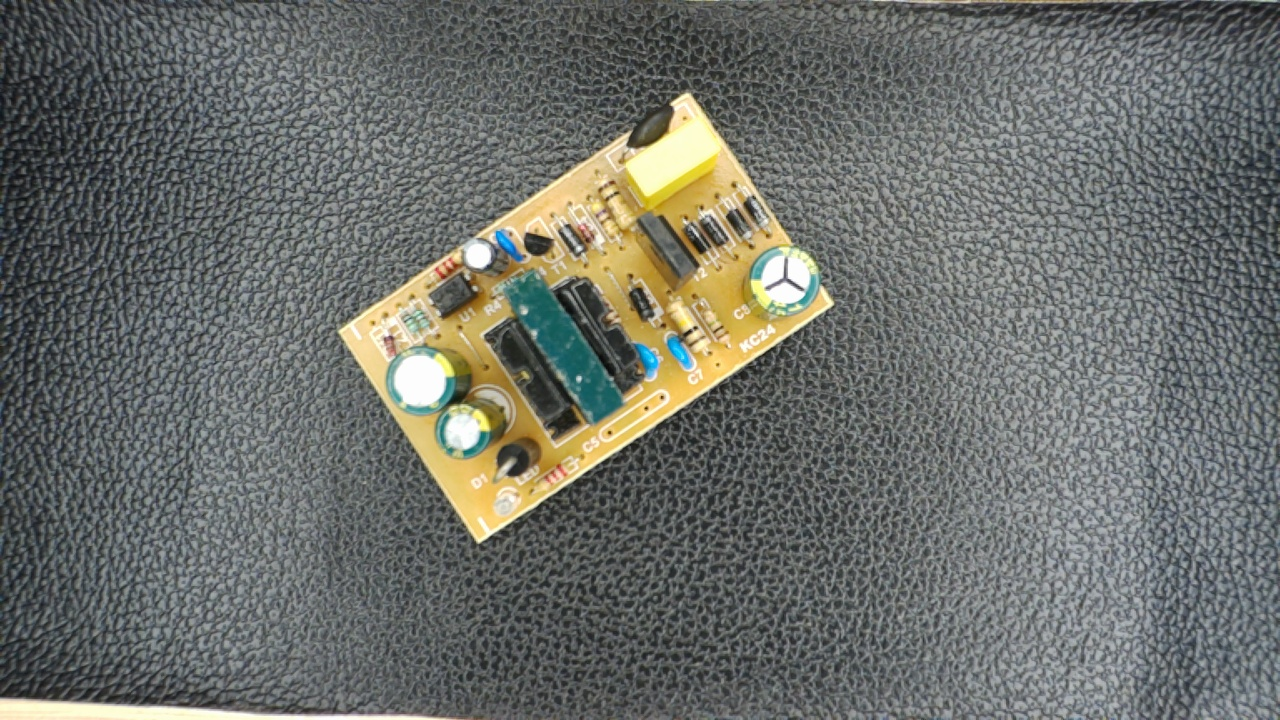fuse: (615, 102, 677, 165)
hv_capacitor: (740, 242, 825, 324)
optocoupler: (419, 272, 485, 323)
